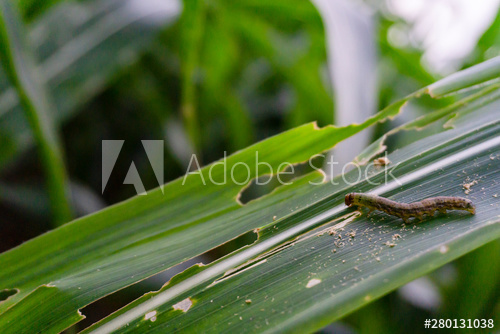Armyworm: (336, 189, 480, 229)
